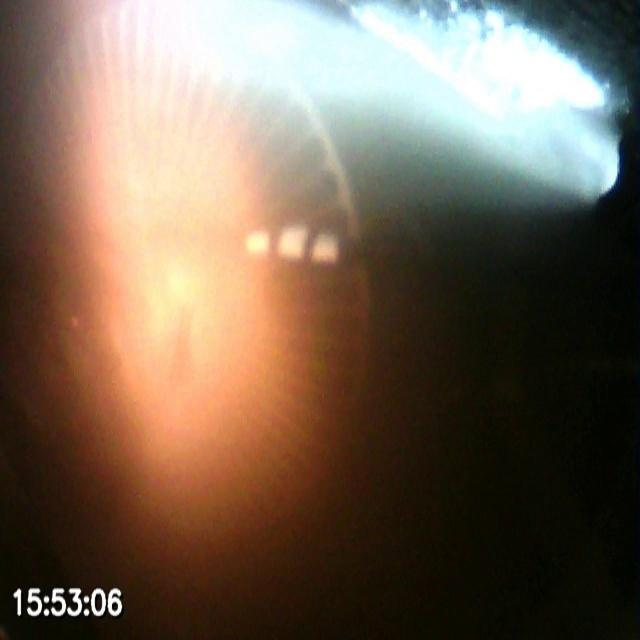white-dots: (244, 222, 343, 267)
